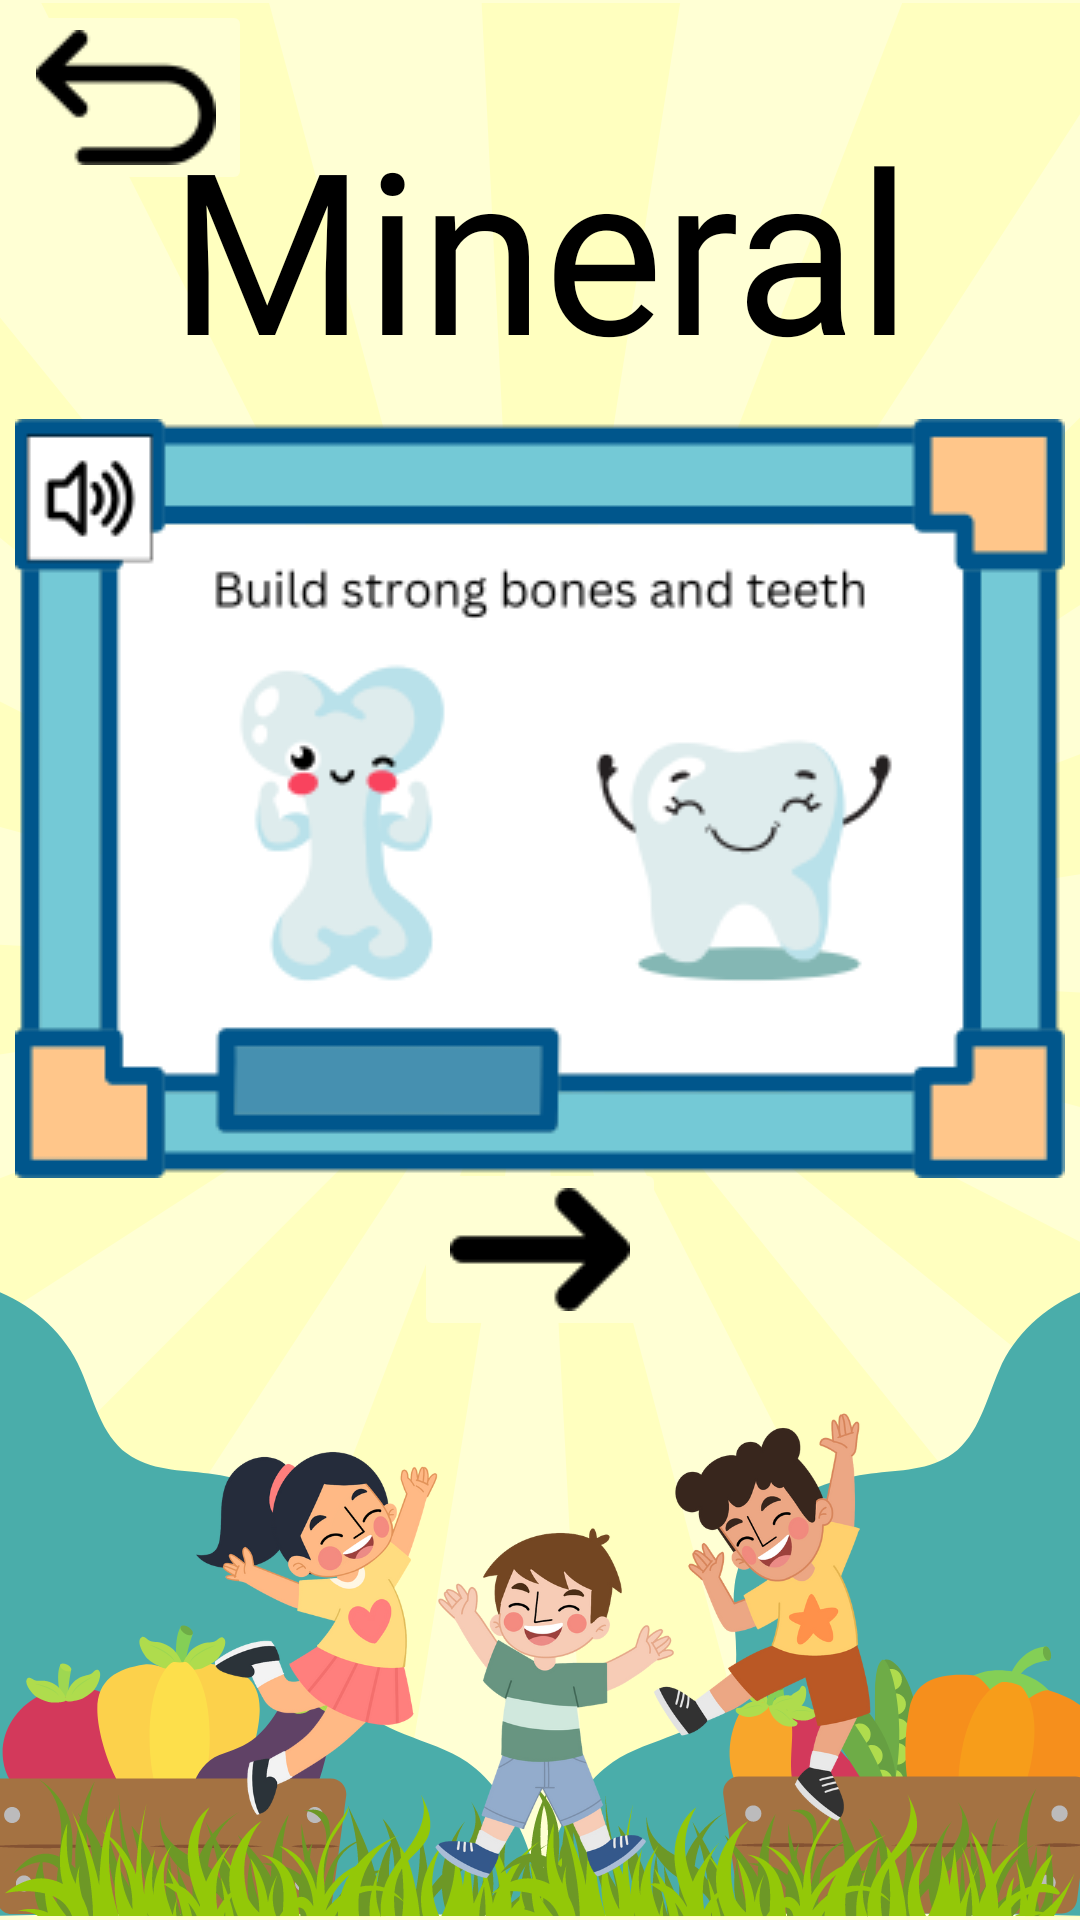

Locate icon controls on the screen. Image size 1080 × 1920, boxes as (x1, y1, x2, y2).
Back: (36, 30, 216, 165)
Next button: (450, 1188, 630, 1311)
